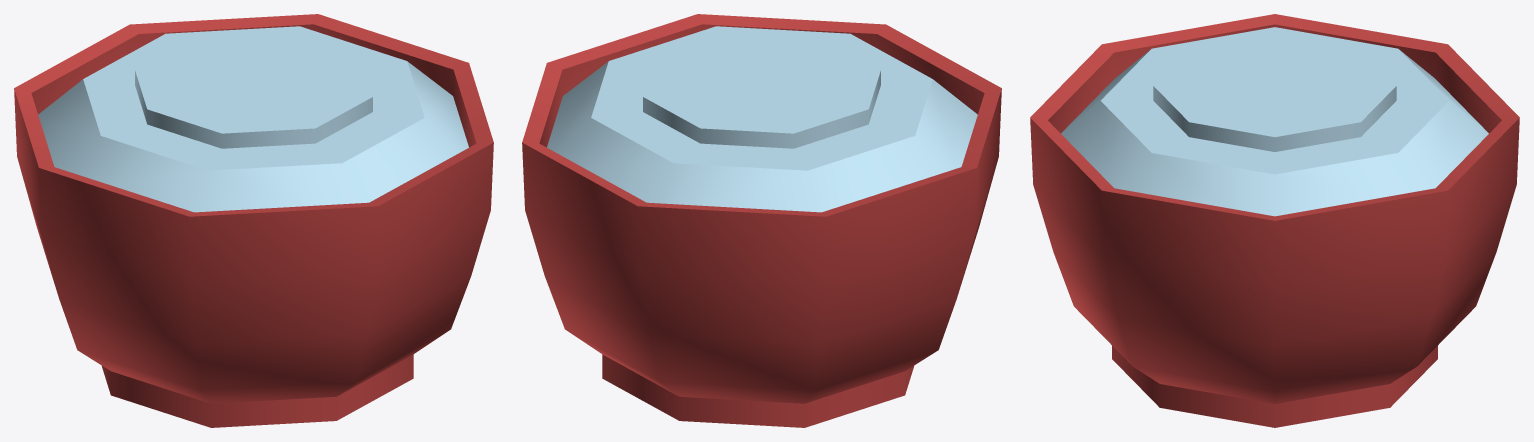
The model's file is cooking_assets_serving_bowl.glb.
3 renders of one model, left to right at view 1: azimuth 30°, elevation 25°; view 2: azimuth 150°, elevation 25°; view 3: azimuth 270°, elevation 25°, orthographic.
Visible parts, largest first — view 1: serving_bowl_2_Cylinder.126, serving_bowl_2.006_lid_Cylinder.127; view 2: serving_bowl_2_Cylinder.126, serving_bowl_2.006_lid_Cylinder.127; view 3: serving_bowl_2_Cylinder.126, serving_bowl_2.006_lid_Cylinder.127.
Boxes of the visible parts, box(x1,y1,x2,y2) form: serving_bowl_2_Cylinder.126: box(14, 14, 493, 427); serving_bowl_2.006_lid_Cylinder.127: box(38, 26, 468, 212); serving_bowl_2_Cylinder.126: box(522, 14, 1001, 427); serving_bowl_2.006_lid_Cylinder.127: box(547, 26, 977, 212); serving_bowl_2_Cylinder.126: box(1030, 14, 1519, 427); serving_bowl_2.006_lid_Cylinder.127: box(1061, 27, 1488, 216).
Bounding box in the file's own units: 1.89 × 1.17 × 1.89.
1 material, 1 textured.
